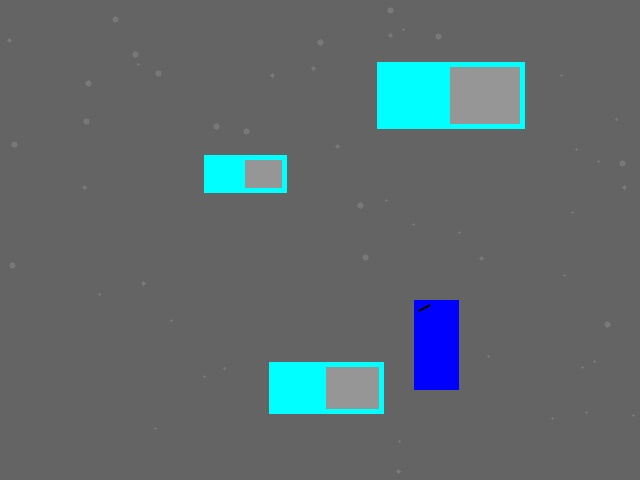motorcycle: (414, 300, 458, 389)
truck: (377, 62, 524, 128), (269, 362, 383, 413), (204, 155, 286, 192)
